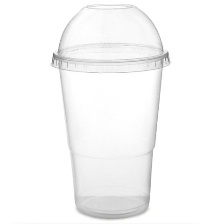glass: (42, 0, 175, 224)
